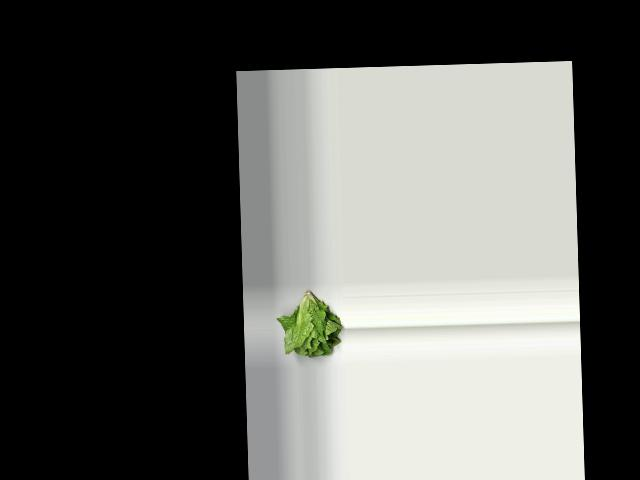lettuce: (277, 284, 346, 361)
